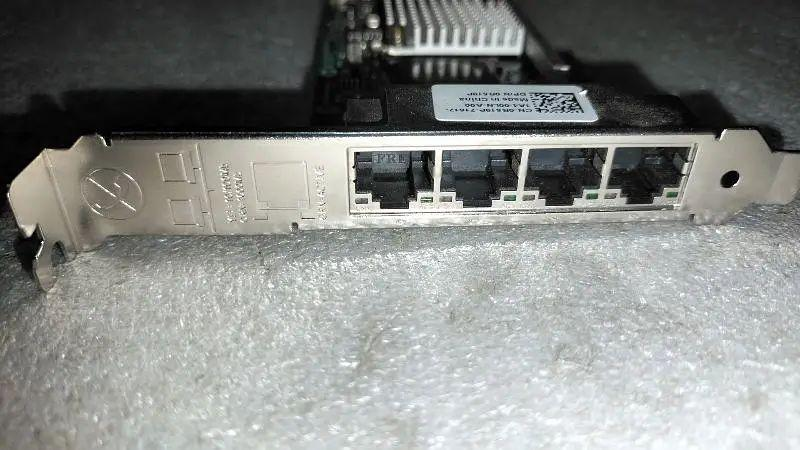electronic: (9, 0, 800, 297)
